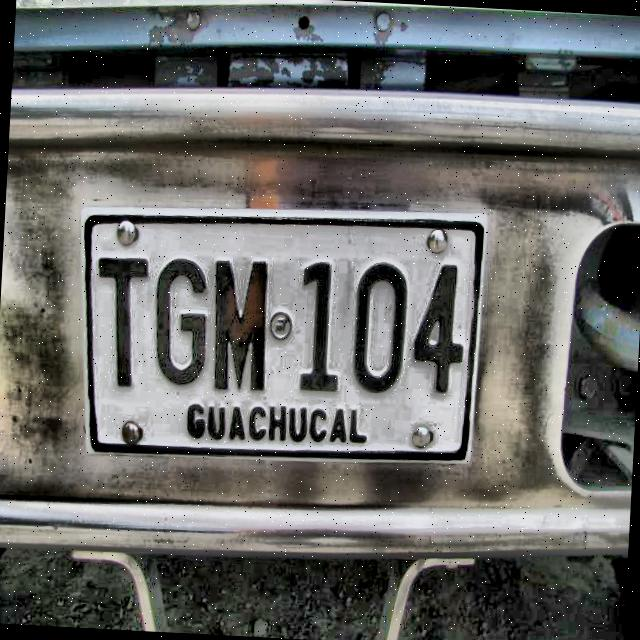0: (347, 258, 419, 405)
1: (289, 256, 347, 396)
4: (406, 260, 468, 399)
G: (150, 257, 210, 395)
M: (210, 256, 274, 397)
T: (95, 257, 158, 396)
